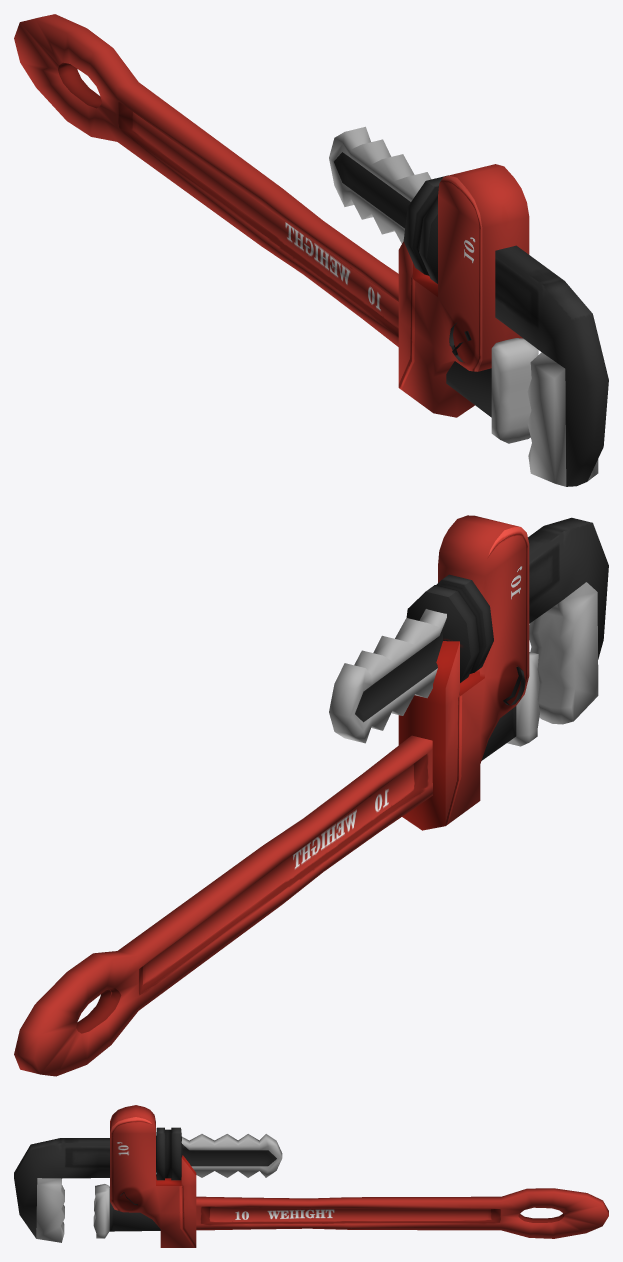
Rendered from W012_0100_Skin.FBX.
3 renders of one model, top to bottom at view 1: azimuth 30°, elevation 25°; view 2: azimuth 150°, elevation 25°; view 3: azimuth 270°, elevation 25°, orthographic. The views are drawn at different scales.
Parts seen in each view (by area): view 1: W013; view 2: W013; view 3: W013.
Boxes of the visible parts, x1=… form: W013: x1=14, y1=14, x2=608, y2=486; W013: x1=14, y1=515, x2=608, y2=1076; W013: x1=14, y1=1105, x2=608, y2=1247.
Bounding box in the file's own units: 20.62 × 77.18 × 305.
